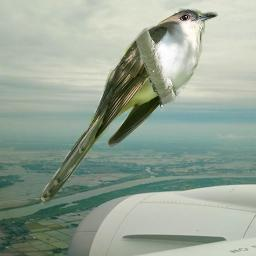Cuckoo: (37, 7, 218, 210)
